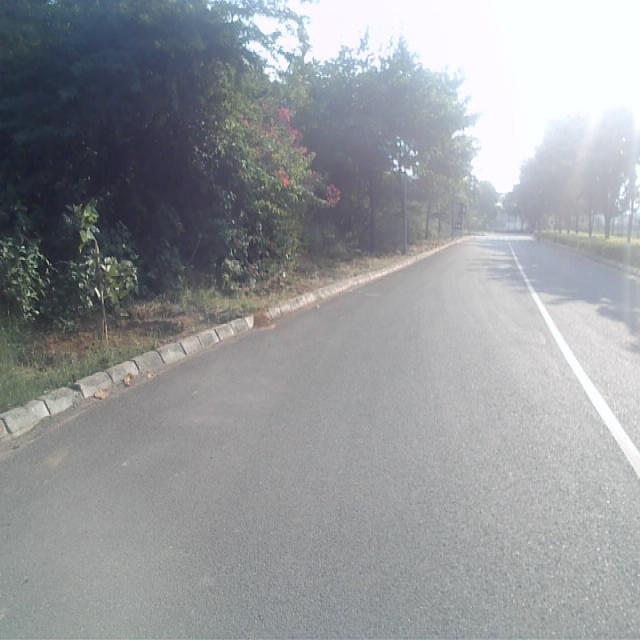lane: (0, 237, 640, 640)
